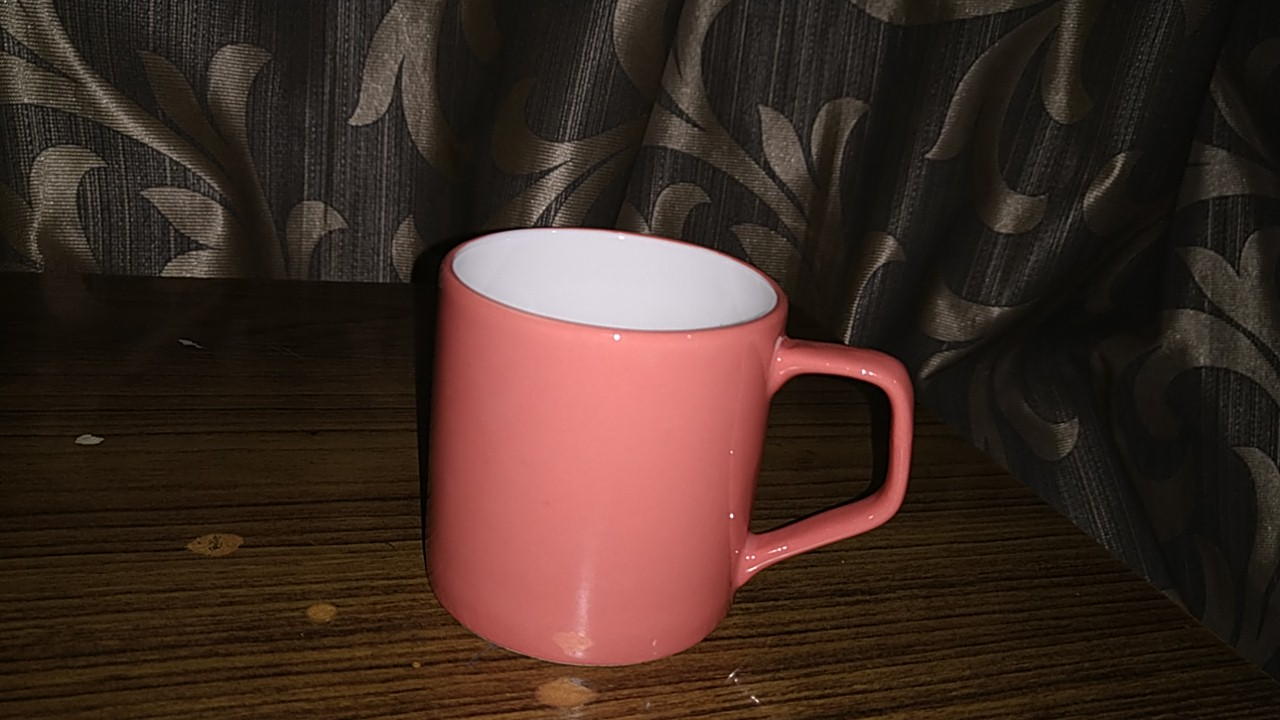cup: (393, 196, 944, 684)
